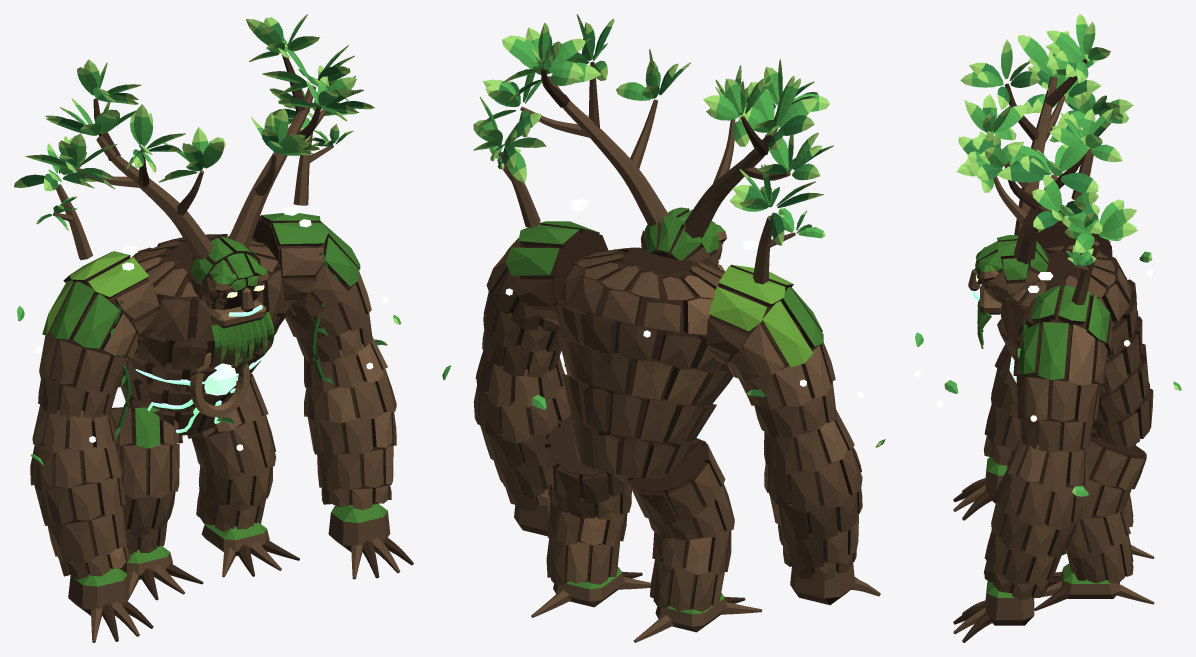
Rendered from WorldrootColossus.fbx.
The picture shows the model from 3 angles, left to right: view 1: azimuth 30°, elevation 25°; view 2: azimuth 150°, elevation 25°; view 3: azimuth 270°, elevation 25°; orthographic projection. The views are drawn at different scales.
Parts seen in each view (by area): view 1: WorldrootColossus_Body, WorldrootColossus_Glow_59ed76, WorldrootColossus_Glow_6cff7c, WorldrootColossus_Glow_89ffcb; view 2: WorldrootColossus_Body; view 3: WorldrootColossus_Body, WorldrootColossus_Glow_89ffcb.
Part boxes in pixels (x1,y1,x2,y2): WorldrootColossus_Body: (14,14,413,642); WorldrootColossus_Glow_59ed76: (135,305,266,433); WorldrootColossus_Glow_6cff7c: (204,363,236,395); WorldrootColossus_Glow_89ffcb: (35,206,387,450); WorldrootColossus_Body: (442,14,885,642); WorldrootColossus_Body: (915,14,1181,642); WorldrootColossus_Glow_89ffcb: (914,269,1153,421).
Bounding box in the file's own units: 2.87 × 3.74 × 1.79.
Materials: 5 (1 with a texture image).
